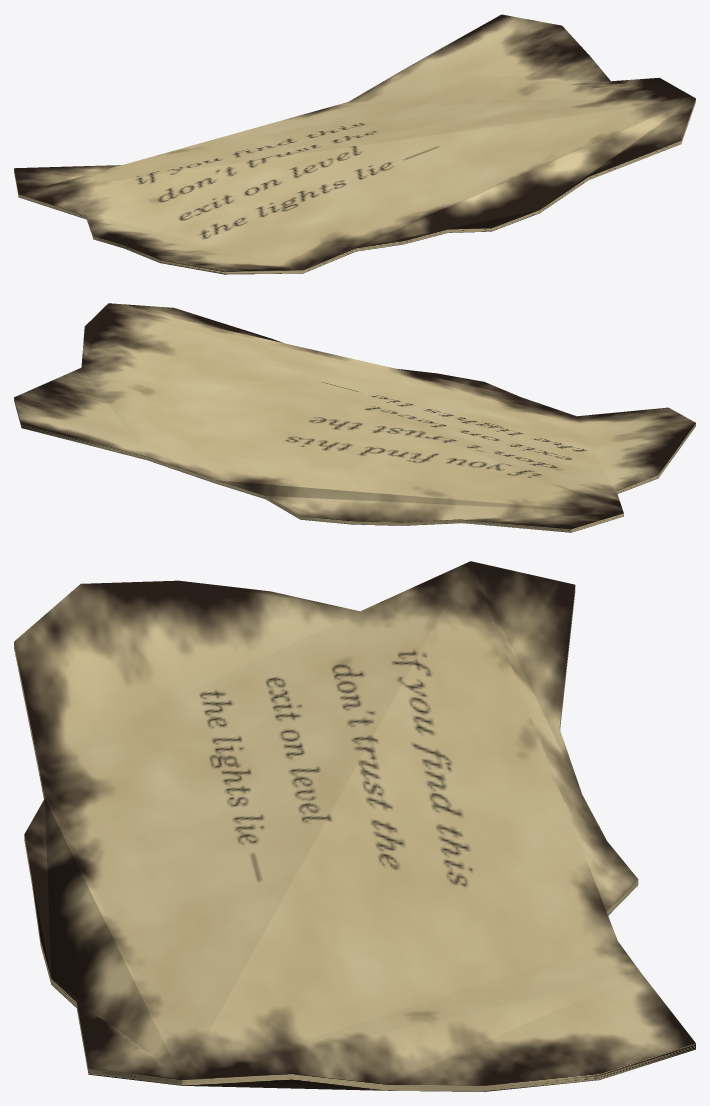
Rendered from endnote.obj.
The picture shows the model from 3 angles, top to bottom: view 1: azimuth 30°, elevation 25°; view 2: azimuth 150°, elevation 25°; view 3: azimuth 270°, elevation 25°; orthographic projection. The views are drawn at different scales.
Parts seen in each view (by area): view 1: endnote_0_surface; view 2: endnote_0_surface; view 3: endnote_0_surface.
Boxes of the visible parts, box(x1,y1,x2,y2) form: endnote_0_surface: box(14, 14, 695, 274); endnote_0_surface: box(14, 303, 695, 532); endnote_0_surface: box(14, 561, 695, 1091).
Bounding box in the file's own units: 0.2176 × 0.0172 × 0.1178.
1 material, 1 textured.
